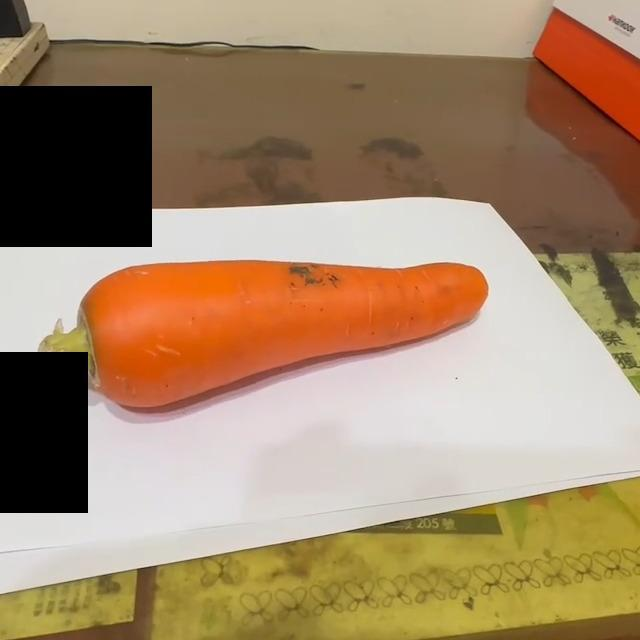carrot: (39, 256, 494, 412)
